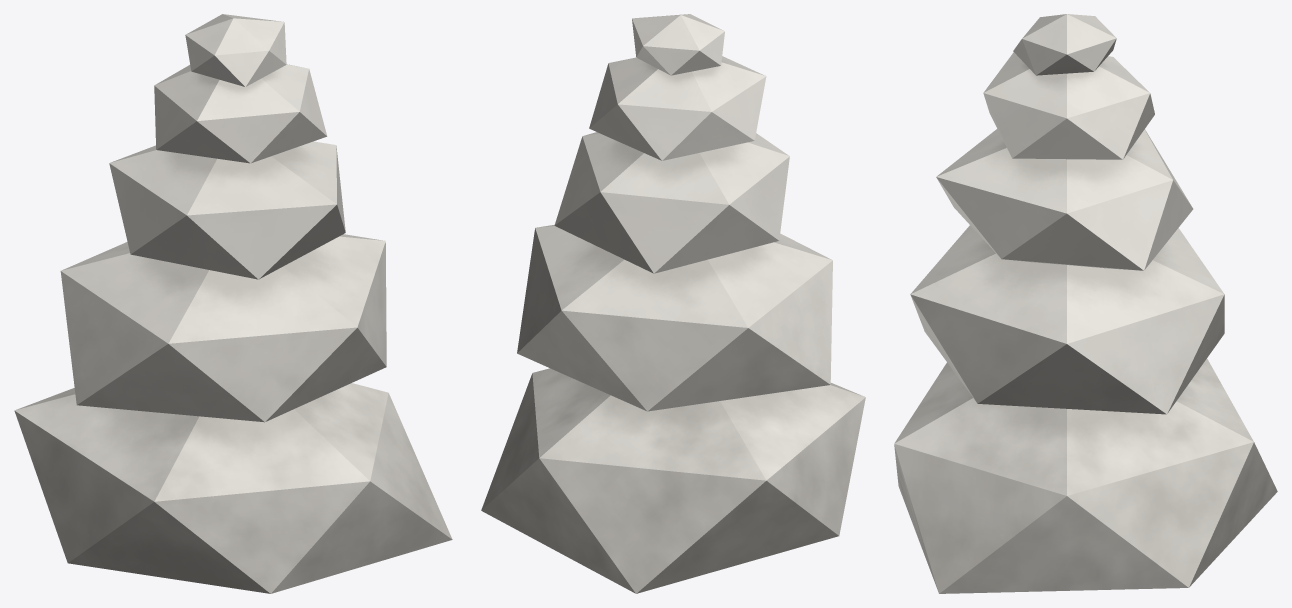
The model's file is kummel_tex.glb.
3 renders of one model, left to right at view 1: azimuth 30°, elevation 25°; view 2: azimuth 150°, elevation 25°; view 3: azimuth 270°, elevation 25°, orthographic. The views are drawn at different scales.
Visible parts, largest first — view 1: kummel; view 2: kummel; view 3: kummel.
Part boxes in pixels (left/top/right/bottom): kummel: left=14, top=14, right=452, bottom=593; kummel: left=481, top=14, right=865, bottom=593; kummel: left=894, top=14, right=1277, bottom=593.
Bounding box in the file's own units: 2.13 × 3.61 × 2.24.
Materials: 1 (1 with a texture image).
